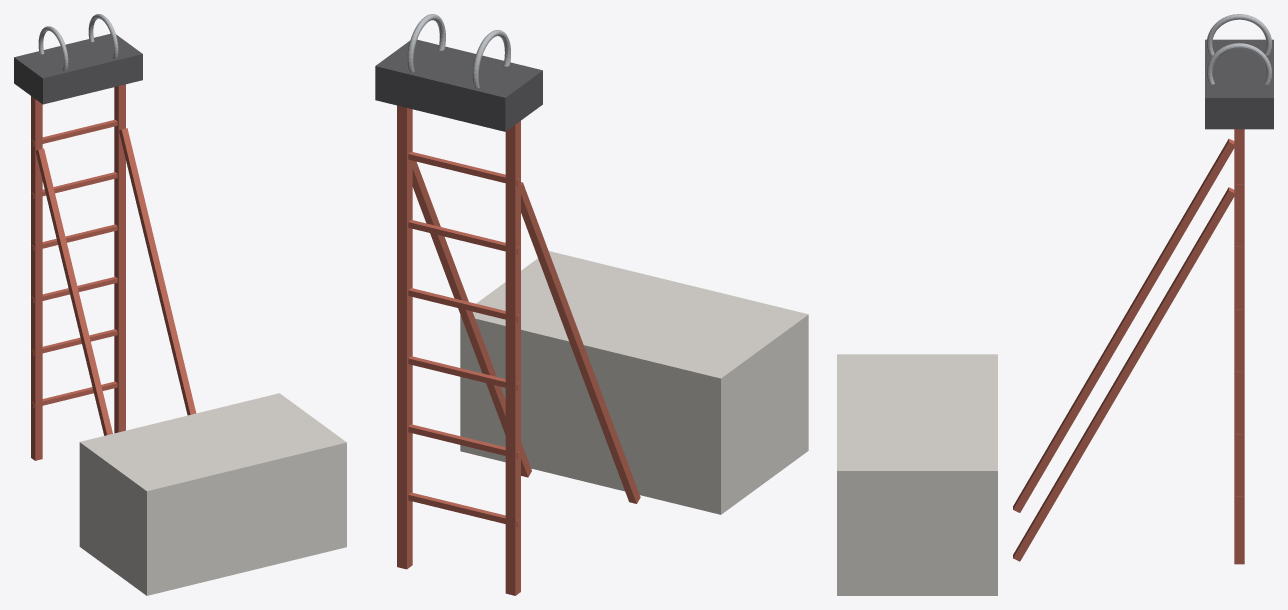
File: kitwe.glb
The picture shows the model from 3 angles, left to right: view 1: azimuth 30°, elevation 25°; view 2: azimuth 150°, elevation 25°; view 3: azimuth 270°, elevation 25°; orthographic projection. The views are drawn at different scales.
Visible parts, largest first — view 1: Cube.011, Cube.010, Cube, Cube.002, Cube.003, Cube.001, Cube.009, Cube.005, Cube.006, Cube.008, Cube.004, Cube.007; view 2: Cube.011, Cube.010, Cube, Cube.002, Cube.001, Cube.003, Cube.008, Cube.005, Cube.004, Cube.007, Cube.009, Cube.006 (+2 smaller); view 3: Cube.011, Cube.010, Cube.002, Cube.001, Cube.003, Torus, Torus.001.
Boxes of the visible parts, bbox=[...] form: Cube.011: bbox=[79, 393, 346, 595]; Cube.010: bbox=[14, 33, 142, 104]; Cube: bbox=[31, 96, 42, 460]; Cube.002: bbox=[114, 84, 125, 433]; Cube.003: bbox=[119, 128, 196, 415]; Cube.001: bbox=[36, 148, 112, 435]; Cube.009: bbox=[31, 120, 117, 145]; Cube.005: bbox=[31, 329, 117, 355]; Cube.006: bbox=[31, 277, 117, 302]; Cube.008: bbox=[31, 172, 117, 198]; Cube.004: bbox=[31, 381, 117, 407]; Cube.007: bbox=[31, 224, 117, 250]; Cube.011: bbox=[460, 251, 808, 514]; Cube.010: bbox=[375, 39, 542, 131]; Cube: bbox=[505, 121, 520, 595]; Cube.002: bbox=[397, 105, 412, 569]; Cube.001: bbox=[521, 182, 640, 503]; Cube.003: bbox=[412, 161, 531, 477]; Cube.008: bbox=[408, 220, 520, 254]; Cube.005: bbox=[408, 424, 520, 458]; Cube.004: bbox=[408, 492, 520, 526]; Cube.007: bbox=[408, 288, 520, 322]; Cube.009: bbox=[408, 151, 520, 185]; Cube.006: bbox=[408, 356, 520, 390]; Cube.011: bbox=[837, 354, 997, 595]; Cube.010: bbox=[1205, 39, 1273, 129]; Cube.002: bbox=[1234, 129, 1244, 564]; Cube.001: bbox=[1013, 139, 1234, 512]; Cube.003: bbox=[1013, 187, 1234, 561]; Torus: bbox=[1206, 14, 1271, 55]; Torus.001: bbox=[1206, 43, 1271, 84].
Bounding box in the file's own units: 24 × 48.85 × 38.
